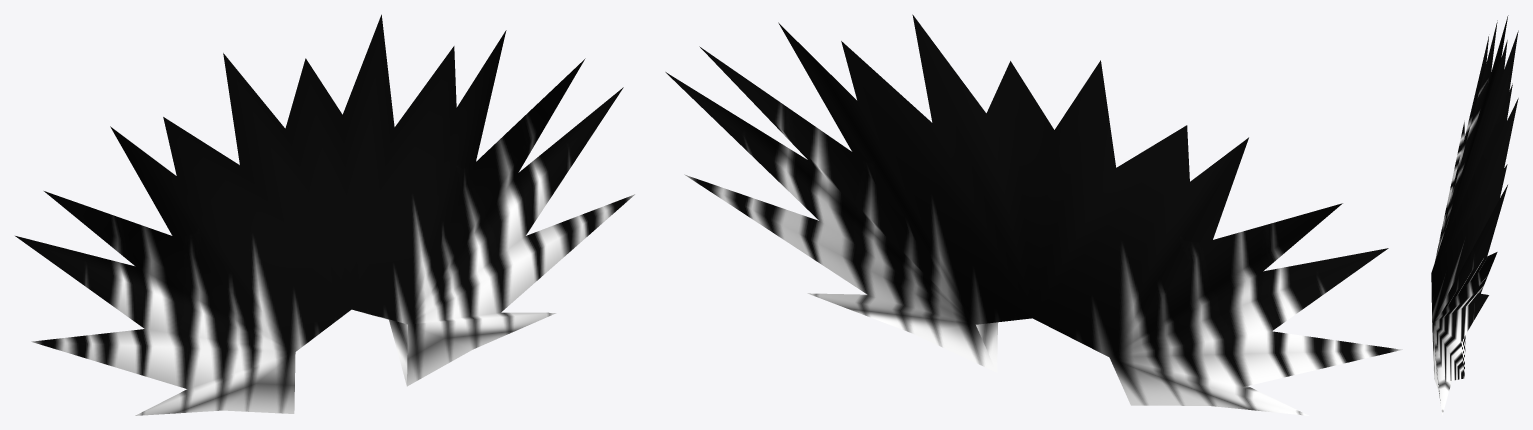
Rendered from 0326_huoyan_M_04.glb.
3 renders of one model, left to right at view 1: azimuth 30°, elevation 25°; view 2: azimuth 150°, elevation 25°; view 3: azimuth 270°, elevation 25°, orthographic. The views are drawn at different scales.
Bounding box in the file's own units: 2.2 × 1.14 × 0.3113.
Materials: 1 (1 with a texture image).
